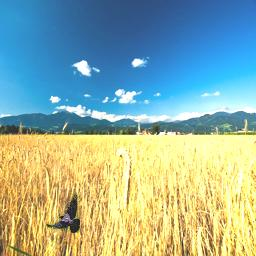Crow: (46, 193, 80, 233)
